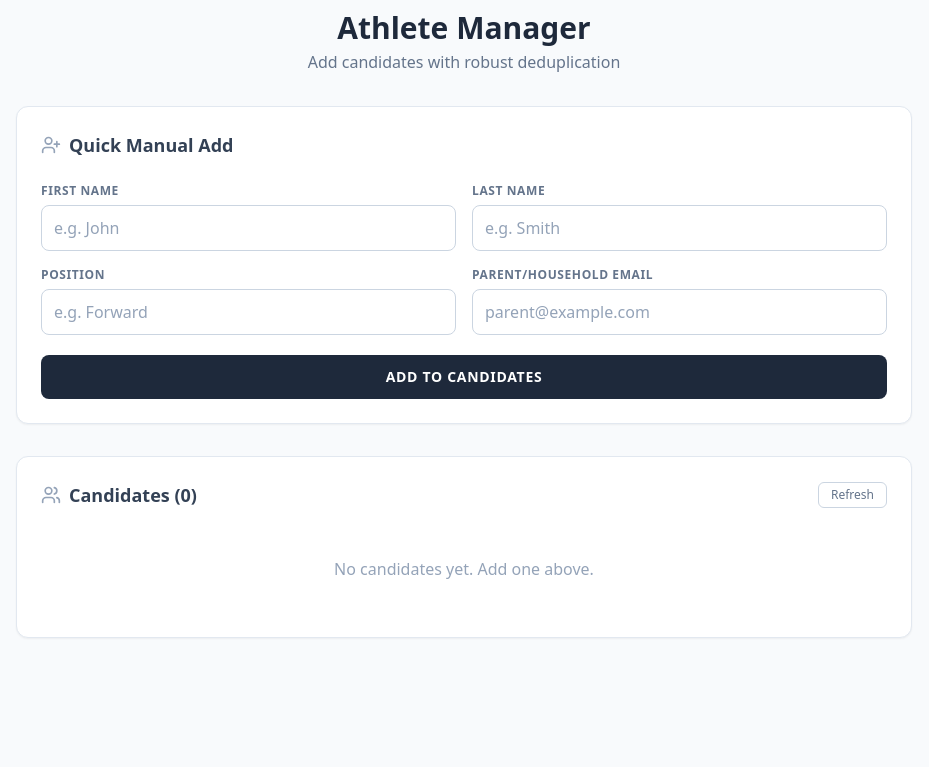
Test case: Home Page › should show success message on successful creation
The width and height of the screenshot is (929, 767).
Step 1. Type "John" into the field with placeholder "e.g. John" → (248,228), box [41,205,456,251]
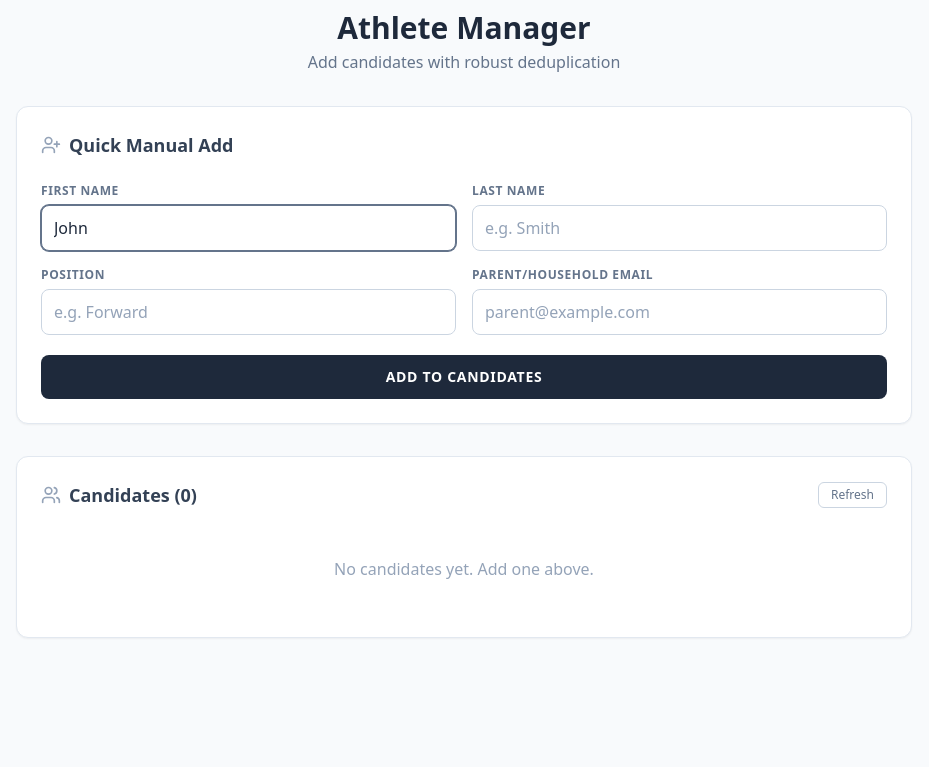
Step 2. Type "Smith" into the field with placeholder "e.g. Smith" → (680,228), box [472,205,887,251]
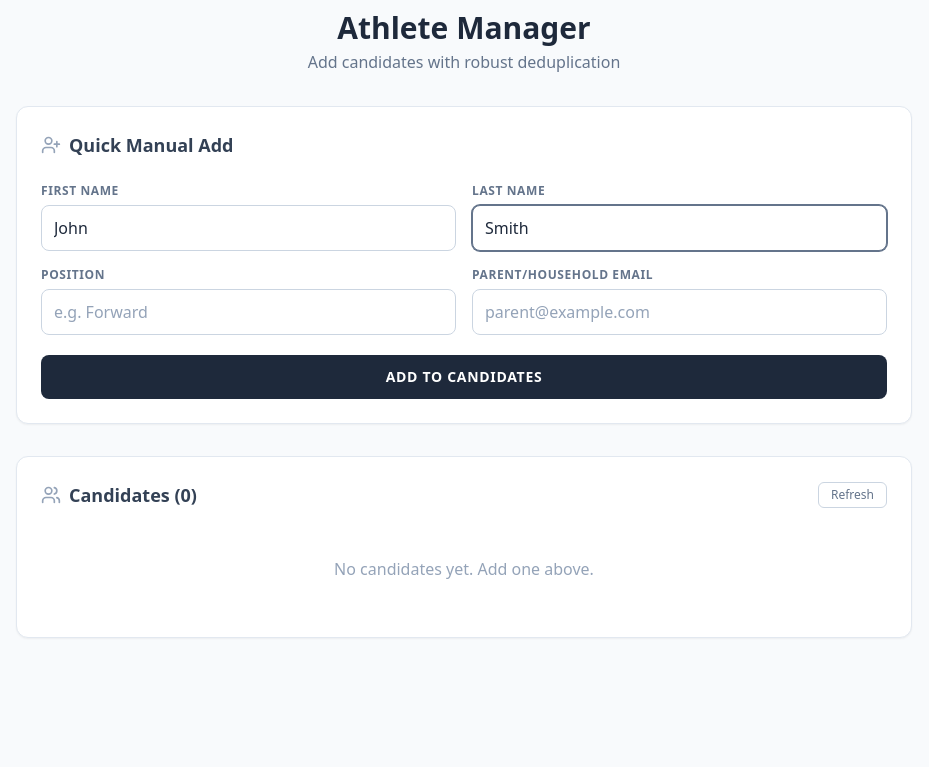
Step 3. Type "Forward" into the field with placeholder "e.g. Forward" → (248,312), box [41,289,456,335]
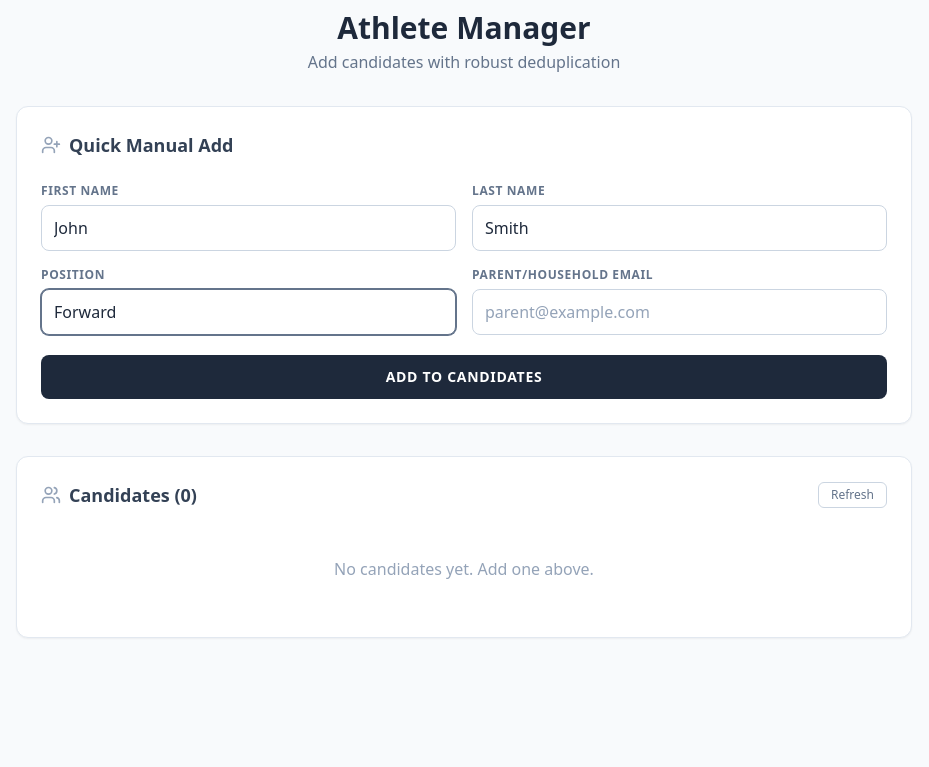
Step 4. Type "parent@test.com" into the field with placeholder "parent@example.com" → (680,312), box [472,289,887,335]
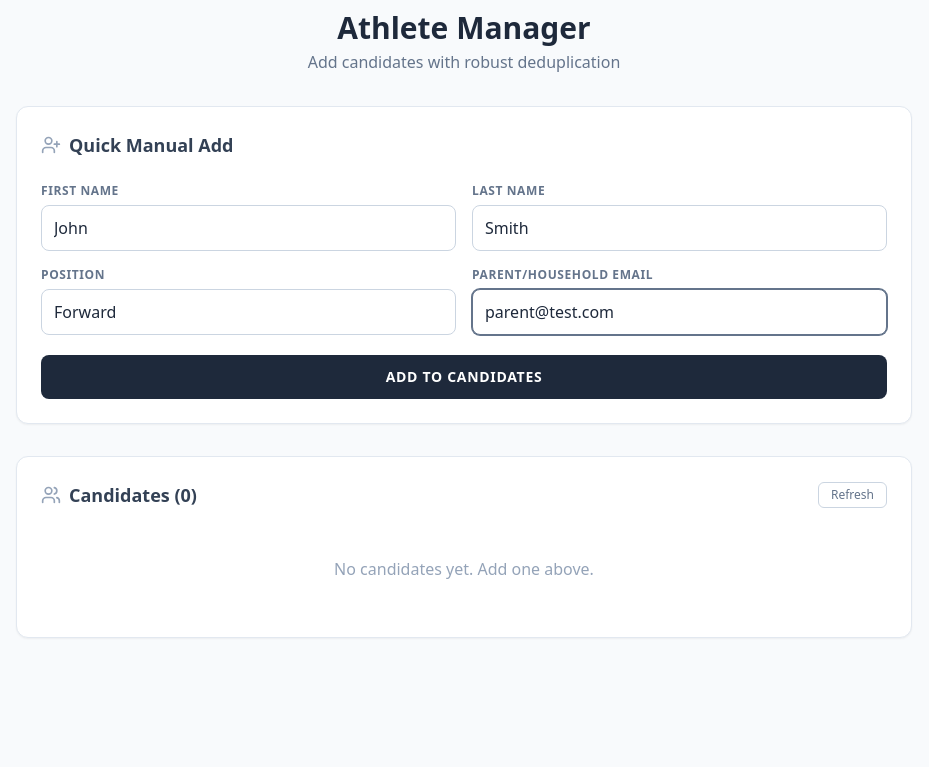
Step 5. Click the button "Add to Candidates" → (464,377), box [41,355,887,399]
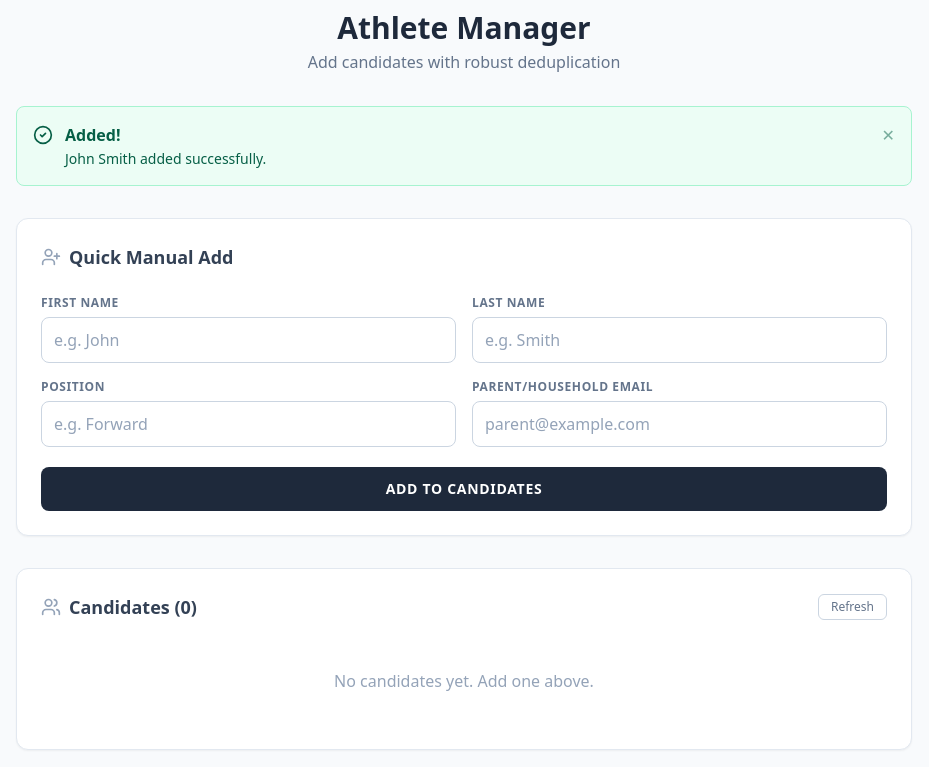
Now the text "Added!" is shown, box [65,124,120,146]
